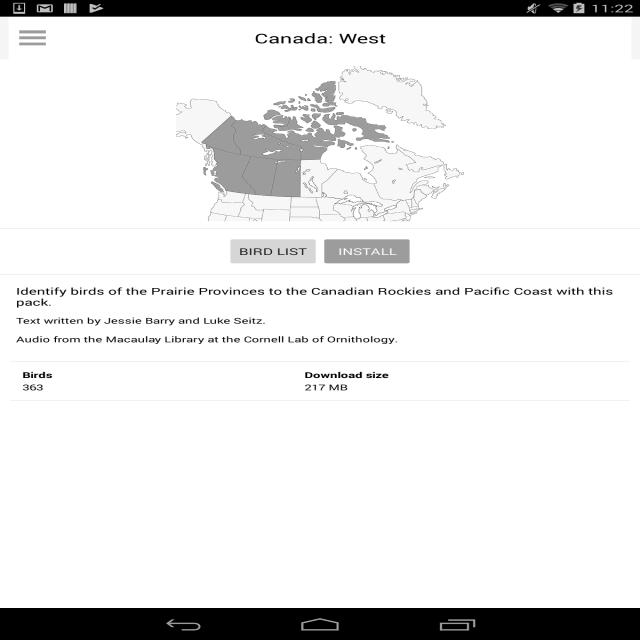Button: (226, 235, 320, 268), (320, 235, 414, 268)
ImageView: (176, 66, 464, 221), (19, 17, 46, 59)
TextView: (16, 285, 624, 308), (16, 315, 398, 345), (254, 29, 386, 47), (304, 370, 389, 380), (304, 382, 348, 392), (22, 370, 52, 380), (22, 382, 44, 392)
